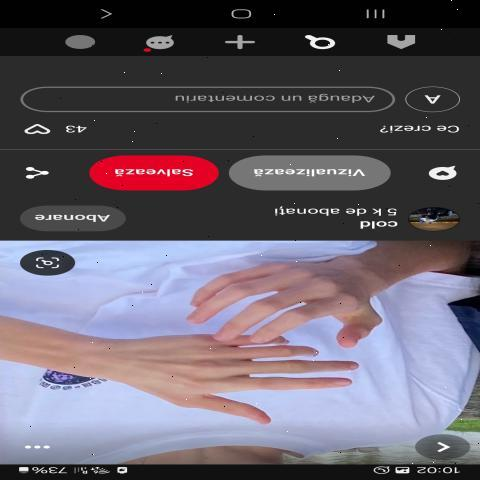Hands: (25, 318, 358, 456), (143, 243, 406, 361)
